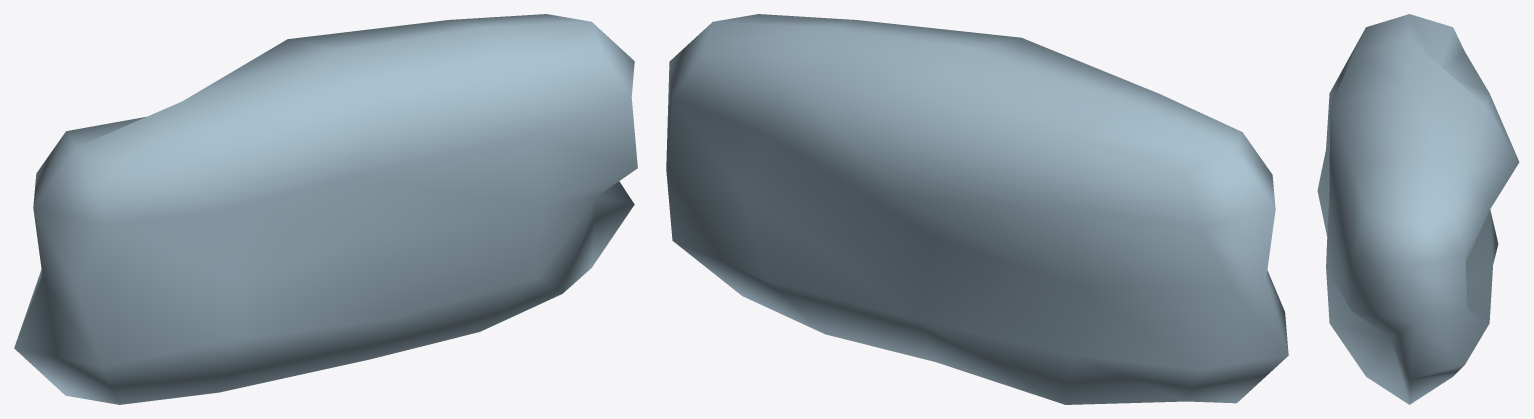
The model's file is Stone (2).fbx.
3 renders of one model, left to right at view 1: azimuth 30°, elevation 25°; view 2: azimuth 150°, elevation 25°; view 3: azimuth 270°, elevation 25°, orthographic. The views are drawn at different scales.
Parts seen in each view (by area): view 1: Cube.042; view 2: Cube.042; view 3: Cube.042.
Boxes of the visible parts, left/top/right/bottom form: Cube.042: left=14, top=14, right=637, bottom=404; Cube.042: left=666, top=14, right=1288, bottom=404; Cube.042: left=1317, top=14, right=1519, bottom=404.
Size of the model in its own units: 1515 by 706 by 546.
